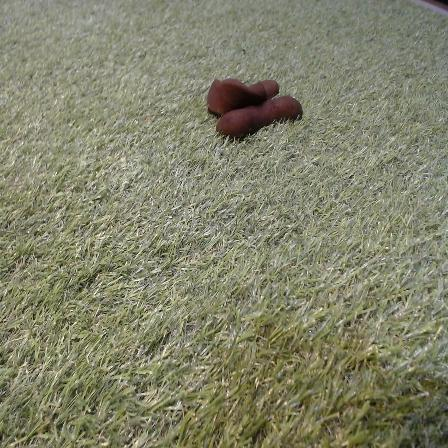dog-poop: (201, 63, 307, 137)
